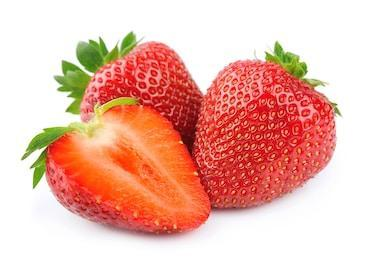Fresa: (187, 51, 342, 214), (75, 38, 214, 151)
